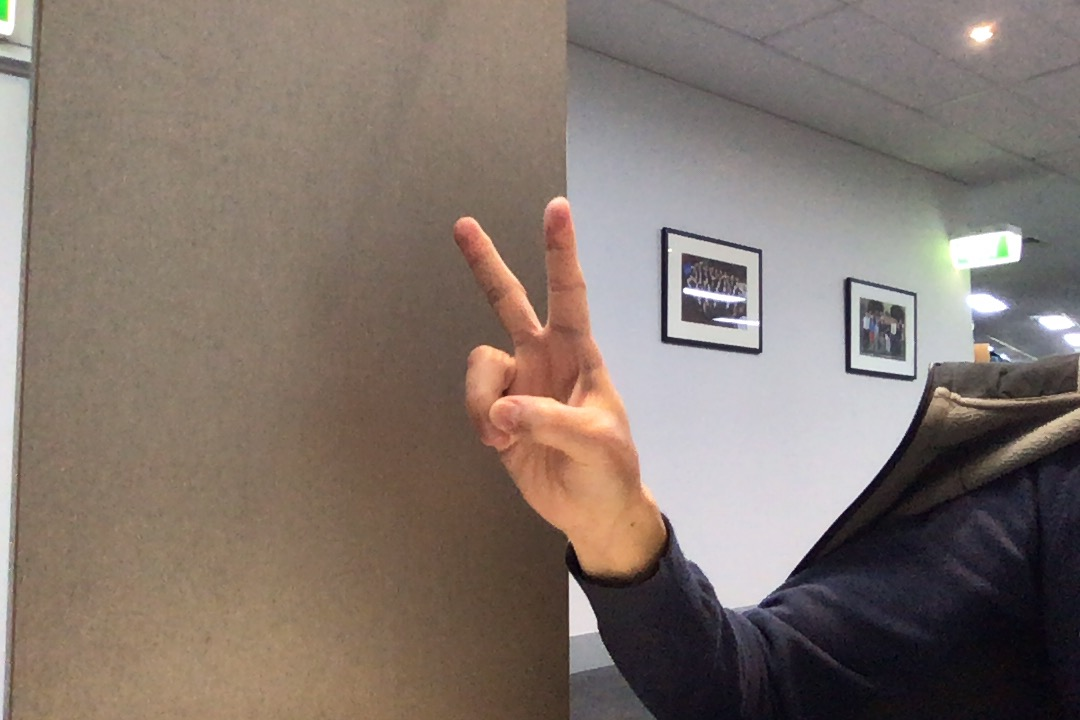peacesign: (423, 187, 665, 545)
